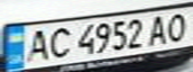2: (124, 16, 148, 50)
4: (75, 21, 96, 56)
5: (109, 18, 130, 52)
9: (90, 20, 115, 54)
A: (21, 27, 54, 63), (145, 12, 172, 46)
C: (45, 25, 75, 60)
O: (163, 10, 190, 43)
